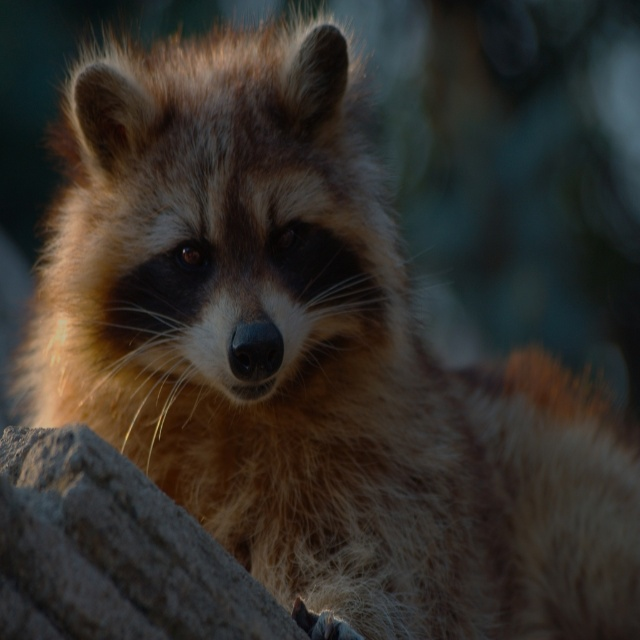Raccoon: (5, 0, 640, 640)
